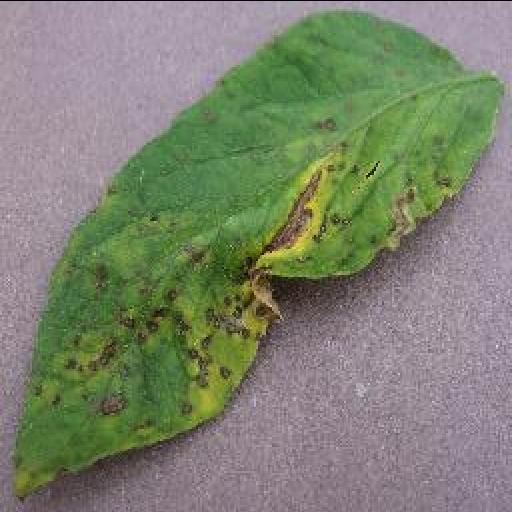disease_tomato: (14, 10, 502, 494)
